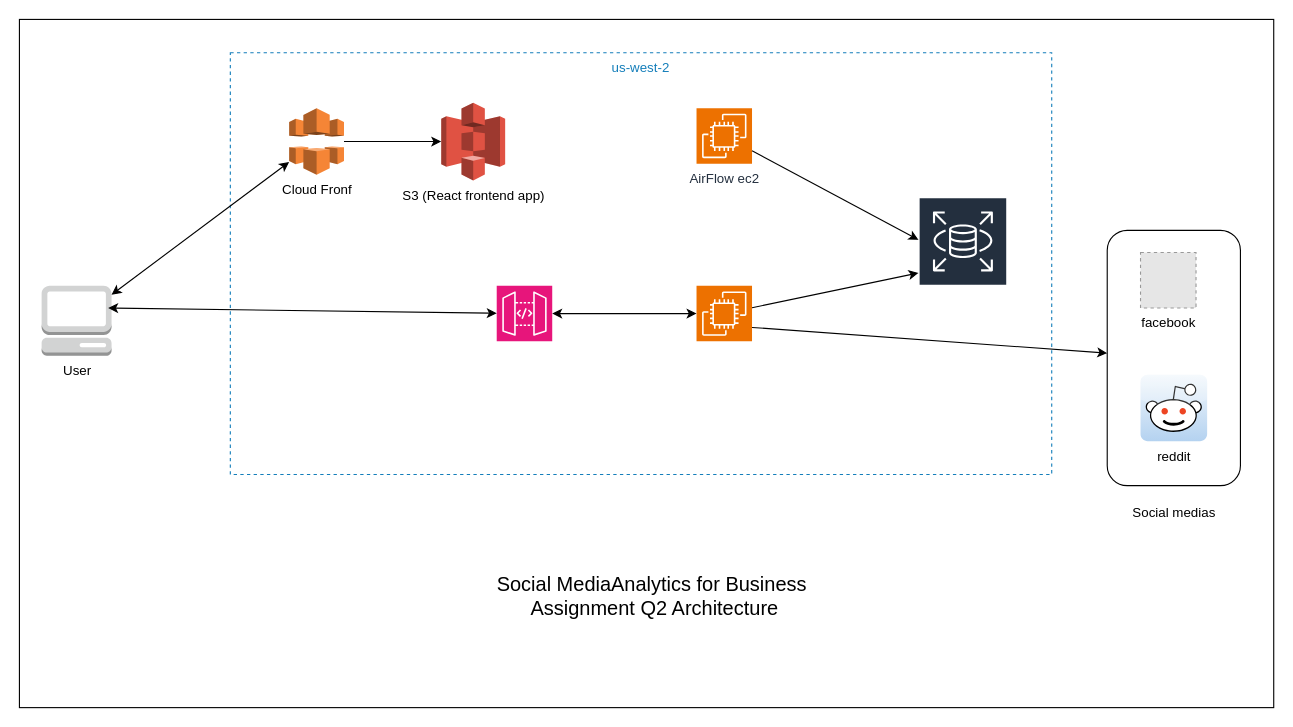
Image size: 1293x727. Some labels were removed from this diagram. Grey dashed boxes stand in for pictures. The shapes that lost their labels are listed below. From the top down, each one's centre as x and y in pixels, then its label:
point 962,263: Amazon MySql RDS
point 524,313: API gateway
point 723,313: Backend ec2
